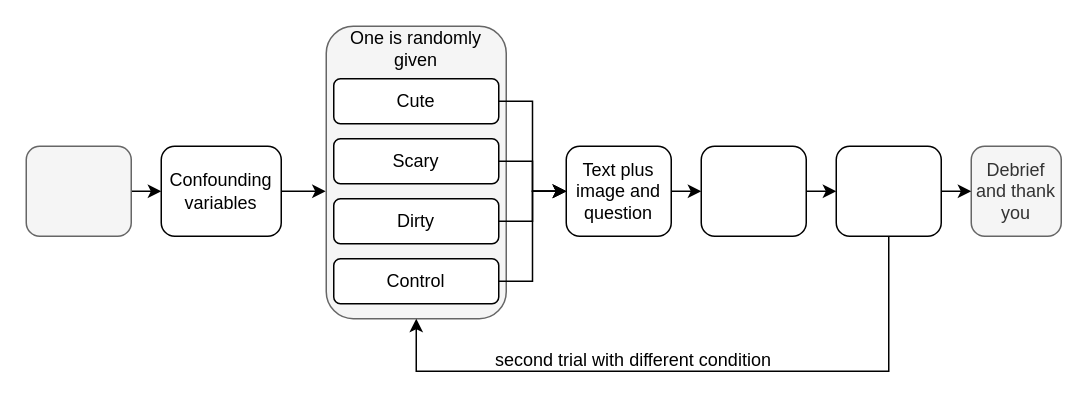
The diagram is 1088 pixels wide and 410 high, and some of its shapes have lost their labels. The shapes that lost their labels are listed below. From the top down, each one's box as (x1, y1, x2, y2) in pixels, then its label:
(25, 145, 131, 236): Briefing and consent
(700, 145, 806, 236): Free recall
(835, 145, 941, 236): Recognition task
